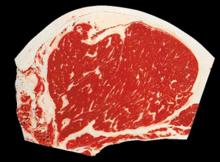beef: (5, 1, 74, 39)
